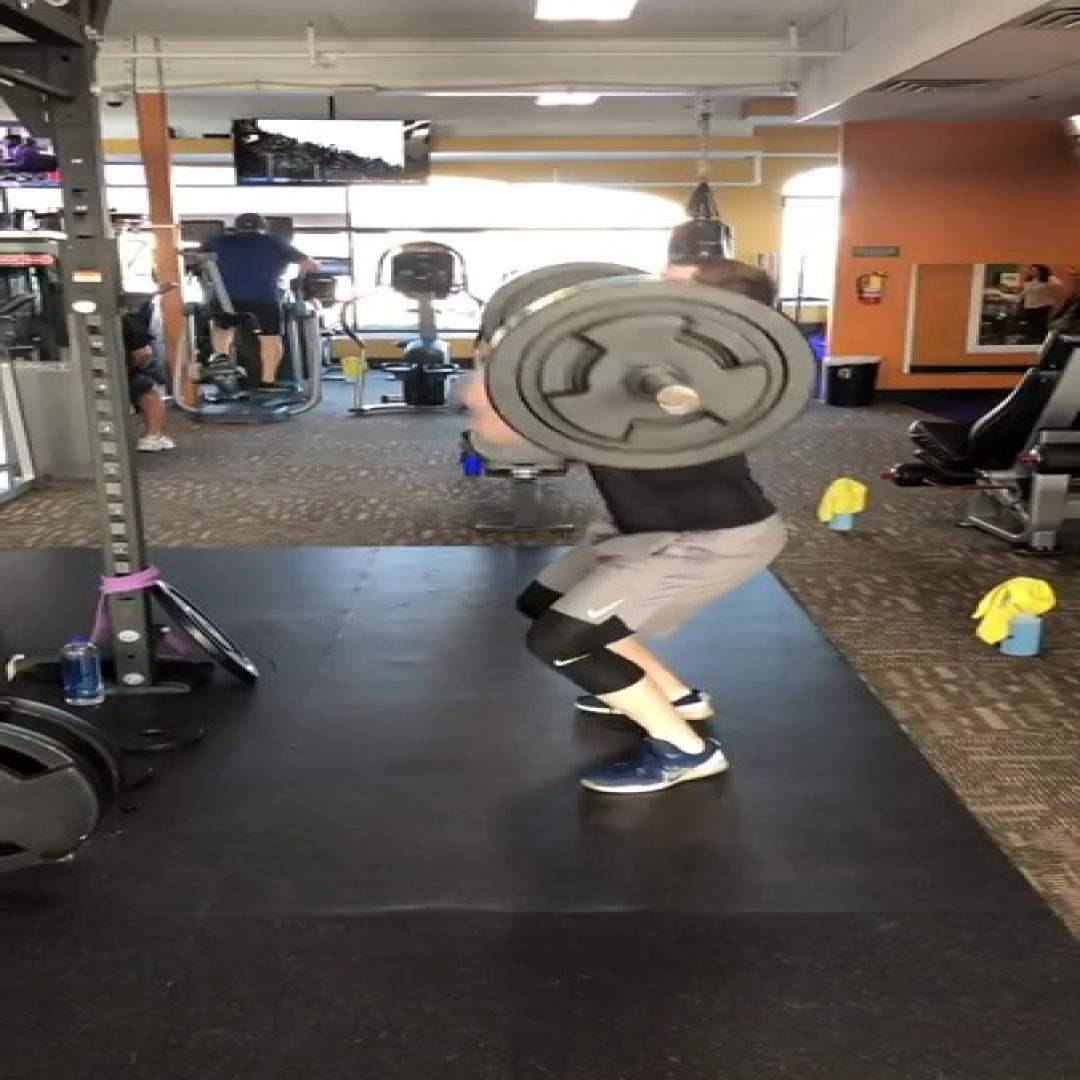Bar: (657, 386, 700, 414)
Barbell: (486, 282, 816, 470)
